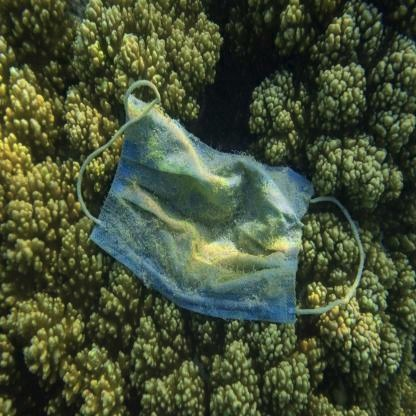Mask: (58, 57, 371, 342)
